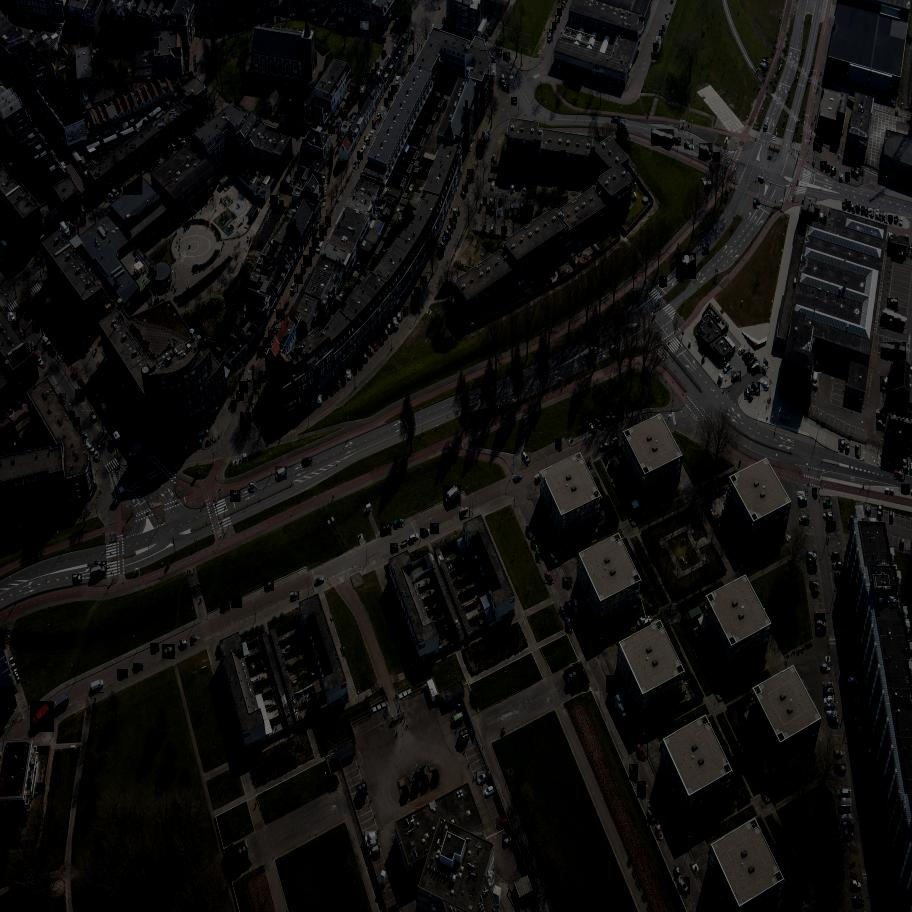large-vehicle: (28, 701, 58, 732), (674, 253, 701, 279), (120, 173, 147, 196), (879, 308, 908, 329), (649, 129, 677, 146), (880, 342, 908, 359), (563, 70, 585, 86), (312, 229, 325, 249), (698, 143, 715, 158), (636, 744, 649, 761), (533, 471, 546, 484), (614, 315, 627, 326), (758, 61, 771, 72), (886, 299, 899, 309), (813, 372, 820, 387), (815, 358, 822, 373), (762, 57, 771, 67), (618, 120, 627, 128)
small-vehicle: (441, 486, 463, 507), (676, 878, 692, 895), (645, 808, 660, 826), (476, 771, 492, 786), (90, 566, 107, 580), (606, 676, 620, 693), (89, 679, 106, 693), (273, 466, 289, 480), (161, 645, 176, 659), (363, 831, 379, 844), (241, 412, 252, 430), (636, 781, 647, 798), (230, 596, 244, 609), (501, 834, 515, 847), (60, 221, 72, 236), (588, 635, 600, 650), (380, 523, 393, 536), (850, 167, 863, 180), (197, 426, 211, 438), (482, 785, 496, 797), (751, 361, 763, 375), (872, 839, 886, 851), (41, 336, 53, 349), (229, 490, 242, 502), (747, 357, 759, 370), (722, 361, 734, 374), (629, 765, 639, 780), (880, 377, 890, 392), (75, 389, 87, 401), (86, 442, 98, 454), (683, 139, 695, 151), (189, 634, 202, 645), (496, 818, 509, 829), (459, 508, 472, 519), (551, 552, 562, 565), (257, 346, 268, 359), (730, 371, 743, 382), (840, 814, 853, 825), (834, 764, 847, 775), (218, 602, 232, 612), (880, 897, 894, 907), (615, 693, 624, 708), (655, 825, 664, 840), (12, 400, 24, 411), (263, 581, 275, 592), (595, 417, 606, 429), (544, 572, 555, 584), (562, 578, 573, 590), (257, 371, 268, 383), (759, 379, 770, 391), (894, 470, 906, 481), (824, 695, 836, 706), (868, 807, 880, 818), (366, 840, 379, 850), (408, 534, 421, 544), (522, 453, 532, 466), (248, 390, 257, 404), (674, 867, 683, 881), (752, 382, 761, 396), (303, 256, 314, 267), (430, 523, 441, 534), (608, 344, 619, 355), (719, 357, 730, 368), (901, 484, 912, 495), (659, 276, 669, 288), (815, 619, 827, 629), (799, 516, 811, 526), (825, 703, 837, 713), (842, 821, 854, 831), (865, 781, 877, 791), (560, 607, 569, 620), (886, 455, 895, 468), (847, 678, 860, 687), (192, 435, 200, 449), (512, 208, 520, 222), (657, 788, 665, 802), (37, 357, 47, 368), (23, 310, 33, 321), (44, 288, 54, 299), (239, 382, 249, 393), (314, 576, 325, 586), (289, 591, 300, 601), (355, 797, 366, 807), (277, 310, 287, 321), (411, 303, 421, 314), (615, 410, 625, 421), (743, 390, 754, 400), (741, 350, 752, 360), (744, 353, 755, 363), (820, 662, 831, 672), (806, 551, 817, 561), (815, 626, 826, 636), (823, 682, 834, 692), (316, 241, 325, 253), (489, 63, 498, 75), (620, 707, 629, 719), (117, 670, 129, 679), (748, 386, 757, 398), (814, 613, 826, 622), (94, 393, 104, 403), (33, 351, 43, 361), (110, 189, 120, 199), (319, 226, 329, 236), (272, 320, 282, 330), (370, 847, 380, 857), (605, 414, 615, 424), (713, 152, 723, 162), (858, 733, 868, 743), (12, 319, 21, 330), (81, 341, 90, 352), (48, 346, 57, 357), (253, 380, 262, 391), (360, 21, 371, 30), (263, 338, 272, 349), (389, 544, 400, 553), (128, 414, 137, 425), (853, 166, 864, 175), (876, 421, 887, 430), (850, 881, 861, 890), (850, 685, 861, 694), (824, 689, 835, 698), (857, 725, 868, 734), (670, 815, 677, 829), (301, 458, 313, 466), (392, 317, 400, 329), (555, 438, 563, 450), (897, 459, 905, 471), (566, 619, 573, 632), (5, 409, 15, 418), (42, 314, 51, 324), (19, 329, 28, 339), (32, 323, 41, 333), (145, 163, 154, 173), (340, 111, 349, 121), (360, 144, 369, 154), (367, 129, 376, 139), (480, 42, 490, 51), (610, 438, 620, 447), (738, 345, 747, 355), (841, 798, 851, 807), (59, 393, 67, 404), (236, 390, 244, 401), (366, 73, 374, 84), (290, 412, 298, 423), (295, 274, 303, 285), (601, 415, 609, 426), (702, 244, 710, 255), (838, 440, 846, 451), (839, 615, 850, 623), (899, 538, 906, 550), (877, 506, 884, 518), (175, 139, 184, 148), (58, 329, 67, 338), (466, 173, 475, 182), (799, 497, 808, 506), (835, 580, 844, 589), (73, 574, 83, 582), (101, 404, 109, 414), (73, 418, 81, 428), (8, 312, 16, 322), (77, 349, 87, 357), (72, 507, 82, 515), (178, 136, 186, 146), (503, 52, 511, 62), (449, 218, 457, 228), (414, 288, 422, 298), (820, 161, 828, 171), (839, 789, 849, 797), (872, 832, 882, 840), (80, 211, 87, 222), (346, 369, 353, 380), (357, 358, 364, 369), (283, 300, 290, 311), (291, 283, 298, 294), (325, 217, 332, 228), (269, 328, 276, 339), (89, 384, 97, 393), (56, 311, 65, 319), (61, 340, 69, 349), (171, 142, 179, 151), (271, 195, 279, 204), (537, 550, 543, 562), (682, 255, 690, 264), (810, 588, 819, 596), (829, 717, 837, 726), (878, 212, 886, 221), (79, 427, 86, 437), (176, 441, 183, 451), (133, 663, 143, 670), (364, 136, 371, 146), (353, 159, 360, 169), (378, 336, 385, 346), (297, 408, 304, 418), (311, 399, 318, 409), (335, 379, 342, 389), (483, 131, 490, 141), (438, 247, 445, 257), (481, 223, 488, 233), (547, 33, 554, 43), (388, 91, 395, 101), (813, 139, 823, 146), (826, 521, 836, 528), (865, 505, 872, 515), (833, 750, 843, 757), (95, 562, 106, 568), (109, 441, 115, 452), (589, 422, 595, 433), (107, 381, 115, 389), (69, 349, 77, 357), (165, 147, 173, 155), (83, 202, 91, 210), (162, 151, 170, 159), (300, 147, 308, 155), (335, 119, 343, 127), (328, 127, 336, 135), (503, 84, 511, 92), (468, 169, 476, 177), (479, 139, 487, 147), (444, 230, 452, 238), (581, 75, 589, 83), (877, 410, 885, 418), (853, 897, 861, 905), (845, 829, 853, 837), (14, 524, 23, 531), (69, 223, 76, 232), (54, 301, 61, 310), (107, 193, 114, 202), (408, 55, 415, 64), (489, 198, 496, 207), (453, 207, 460, 216), (561, 0, 568, 9), (611, 116, 620, 123), (653, 43, 660, 52), (651, 52, 658, 61), (824, 512, 833, 519), (833, 561, 842, 568), (840, 807, 849, 814), (871, 815, 880, 822), (91, 412, 97, 422), (513, 475, 523, 481), (20, 303, 26, 313), (318, 394, 324, 404), (330, 385, 336, 395), (394, 520, 404, 526), (172, 441, 178, 451), (566, 599, 571, 611), (845, 443, 851, 453), (807, 566, 817, 572), (827, 712, 837, 718), (754, 198, 760, 208), (73, 327, 80, 335), (148, 160, 155, 168), (338, 17, 346, 24), (249, 484, 256, 492), (150, 644, 158, 651), (180, 641, 187, 649), (304, 14, 312, 21), (360, 86, 367, 94), (391, 86, 399, 93), (355, 29, 363, 36), (496, 49, 504, 56), (511, 98, 518, 106), (477, 150, 484, 158), (181, 436, 185, 450), (420, 277, 427, 285), (557, 8, 564, 16), (591, 78, 599, 85), (574, 599, 578, 613), (587, 356, 595, 363), (797, 491, 805, 498), (813, 143, 821, 150), (839, 172, 846, 180), (880, 889, 888, 896), (70, 411, 76, 420), (84, 435, 90, 444), (29, 343, 35, 352), (80, 195, 86, 204), (358, 151, 364, 160), (310, 247, 316, 256), (363, 353, 369, 362), (489, 207, 495, 216), (497, 208, 503, 217), (518, 213, 524, 222), (656, 36, 662, 45), (763, 122, 769, 131), (601, 444, 610, 450), (807, 559, 816, 565), (837, 602, 846, 608), (859, 750, 868, 756), (231, 400, 236, 410), (353, 364, 358, 374), (403, 306, 408, 316), (845, 172, 850, 182), (882, 455, 887, 465), (246, 16, 253, 23), (462, 184, 469, 191), (440, 242, 447, 249), (810, 581, 817, 588), (47, 517, 55, 523), (37, 304, 43, 312), (69, 330, 75, 338), (352, 97, 358, 105), (367, 346, 373, 354), (490, 181, 496, 189), (448, 225, 454, 233), (502, 226, 508, 234), (552, 23, 558, 31), (521, 188, 527, 196), (893, 457, 897, 469), (94, 451, 99, 460), (381, 106, 386, 115), (306, 404, 311, 413), (301, 264, 306, 273), (500, 75, 505, 84), (486, 204, 491, 213), (506, 210, 511, 219), (832, 166, 837, 175), (835, 574, 844, 579), (532, 538, 536, 549), (51, 150, 57, 157), (46, 299, 53, 305), (25, 522, 32, 528), (154, 158, 160, 165), (194, 18, 201, 24), (346, 28, 353, 34), (290, 13, 297, 19), (302, 140, 309, 146), (379, 37, 386, 43), (421, 530, 427, 537), (675, 138, 682, 144), (357, 92, 362, 100), (341, 374, 346, 382), (397, 77, 402, 85), (510, 184, 515, 192), (388, 324, 393, 332), (556, 15, 561, 23), (526, 527, 530, 537), (520, 203, 525, 211), (856, 445, 860, 455), (826, 165, 831, 173), (869, 208, 874, 216), (871, 824, 879, 829), (856, 204, 861, 212), (899, 217, 904, 225), (331, 14, 337, 20), (665, 13, 671, 19), (581, 612, 584, 624), (23, 273, 30, 278), (309, 9, 316, 14), (329, 23, 336, 28), (382, 51, 387, 58), (297, 13, 304, 18), (372, 69, 377, 76), (511, 204, 516, 211), (590, 348, 597, 353), (833, 553, 840, 558), (875, 210, 880, 217), (490, 225, 494, 233), (894, 215, 898, 223), (248, 23, 254, 28), (249, 370, 252, 380), (313, 18, 319, 23), (347, 104, 352, 110), (295, 172, 298, 182), (612, 412, 615, 422), (550, 29, 555, 35), (42, 136, 47, 142), (824, 501, 829, 507), (904, 460, 907, 470), (856, 718, 862, 723), (298, 7, 305, 11), (384, 330, 388, 337), (375, 62, 379, 69), (373, 121, 377, 128), (607, 84, 614, 88), (199, 437, 202, 446), (890, 511, 893, 520), (813, 488, 816, 497), (267, 18, 272, 23), (345, 19, 351, 23), (325, 390, 328, 398), (448, 77, 452, 83), (453, 214, 457, 220), (398, 312, 401, 320), (499, 200, 502, 208), (759, 175, 763, 181), (843, 200, 846, 208), (861, 206, 864, 214), (48, 144, 51, 151), (378, 114, 381, 121), (280, 200, 283, 207), (374, 342, 377, 349), (462, 190, 465, 197), (443, 236, 446, 243), (852, 204, 855, 211), (338, 25, 343, 29), (301, 144, 306, 148), (884, 212, 886, 222), (441, 91, 444, 97), (660, 30, 663, 36), (889, 215, 892, 221), (241, 25, 245, 29), (3, 232, 6, 237), (188, 439, 190, 446), (385, 99, 387, 106), (484, 197, 486, 204), (848, 202, 850, 209), (292, 6, 296, 9), (412, 295, 414, 301), (662, 25, 664, 31), (865, 208, 867, 214), (240, 19, 243, 22), (276, 17, 279, 20)
